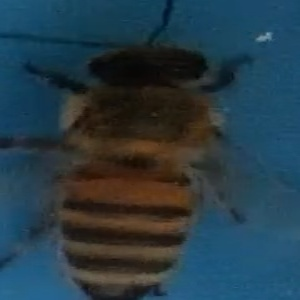bee: (10, 5, 258, 300)
